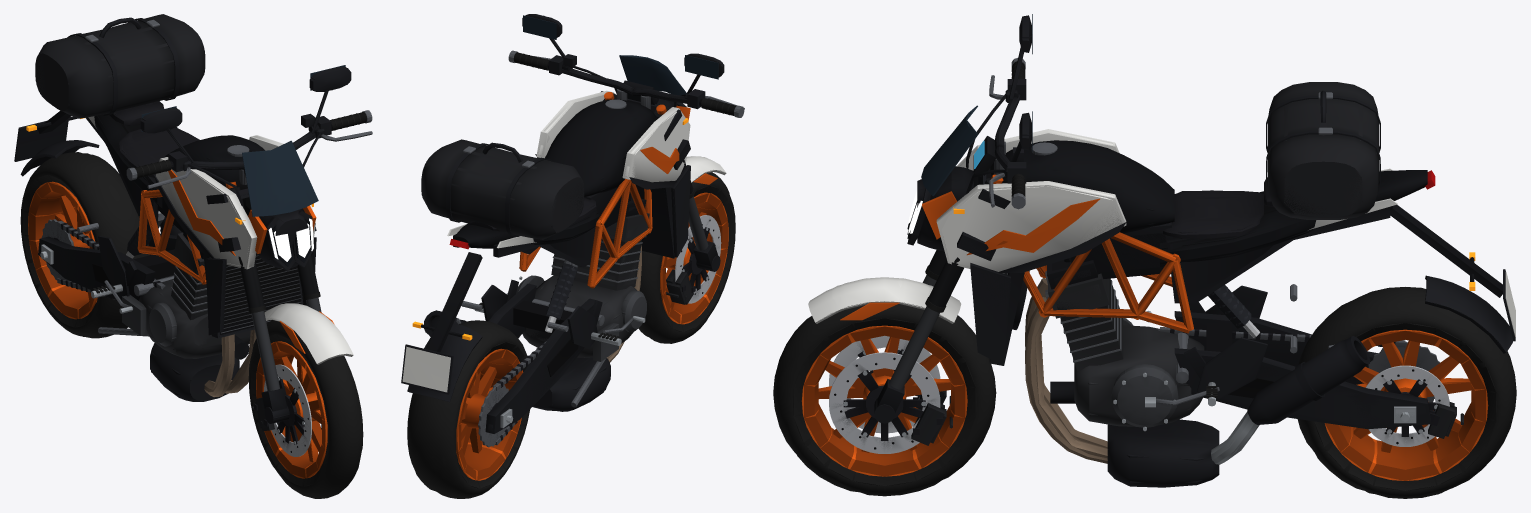
File: bike09_duke890.glb
The picture shows the model from 3 angles, left to right: view 1: azimuth 30°, elevation 25°; view 2: azimuth 150°, elevation 25°; view 3: azimuth 270°, elevation 25°; orthographic projection. The views are drawn at different scales.
Visible parts, largest first — view 1: body (×2), luggage (×2), wheel_rear (×2), wheel_front (×2), handlebar (×2), fork_left (×2), disc_front (×2), headlight, fork_right; view 2: body (×2), wheel_rear (×2), luggage (×2), wheel_front (×2), handlebar (×2), fork_left (×2), disc_front (×2); view 3: body (×2), wheel_rear (×2), wheel_front (×2), luggage (×2), disc_front (×2), handlebar (×2), fork_right (×2), disc_rear (×2).
Part boxes in pixels (x1,y1,x2,y2): body (×2): (14, 101, 353, 401); luggage (×2): (35, 14, 205, 118); wheel_rear (×2): (20, 152, 149, 338); wheel_front (×2): (248, 320, 363, 498); handlebar (×2): (126, 65, 372, 206); fork_left (×2): (226, 181, 289, 431); disc_front (×2): (264, 364, 321, 456); headlight: (265, 210, 313, 271); fork_right: (297, 255, 321, 312); body (×2): (401, 55, 726, 445); wheel_rear (×2): (407, 320, 529, 498); luggage (×2): (421, 139, 584, 239); wheel_front (×2): (638, 172, 735, 343); handlebar (×2): (508, 14, 744, 117); fork_left (×2): (654, 104, 720, 304); disc_front (×2): (665, 215, 721, 303); body (×2): (808, 105, 1515, 487); wheel_rear (×2): (1297, 287, 1516, 498); wheel_front (×2): (773, 304, 996, 496); luggage (×2): (1266, 82, 1380, 219); disc_front (×2): (829, 336, 940, 453); handlebar (×2): (966, 14, 1032, 209); fork_right (×2): (874, 174, 1003, 445); disc_rear (×2): (1365, 365, 1449, 446).
Bounding box in the file's own units: 0.88 × 1.25 × 2.
